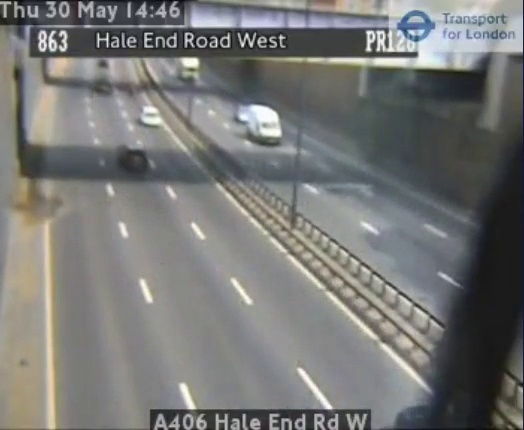car: (120, 145, 146, 174), (139, 106, 161, 126)
